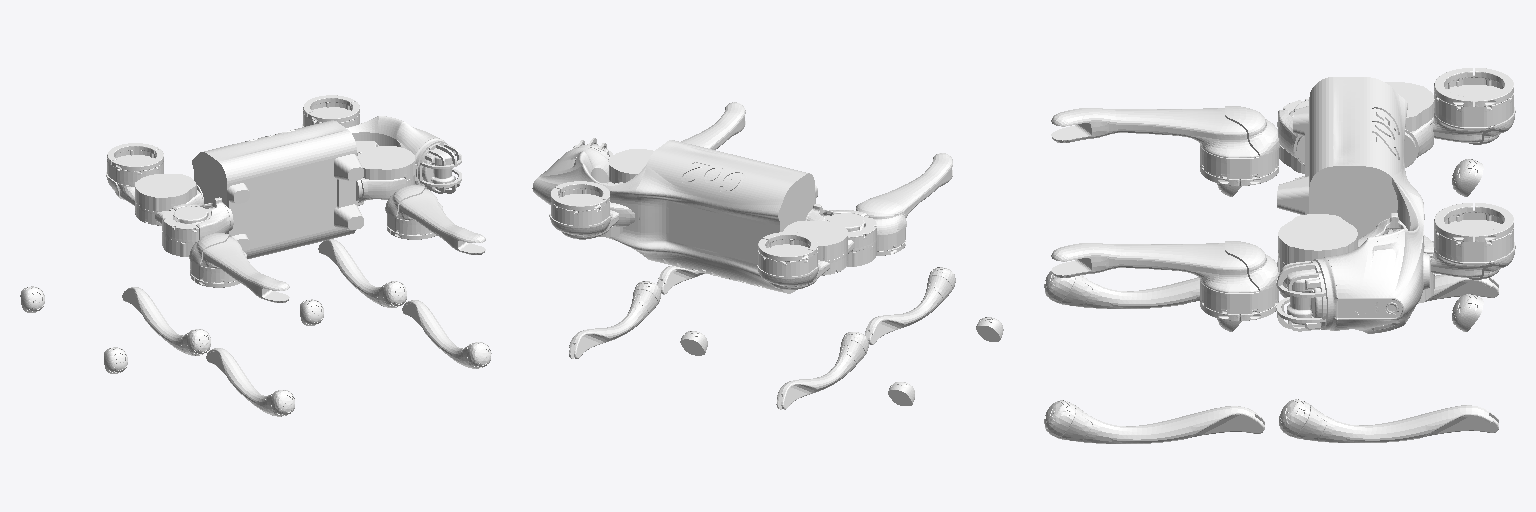
--- Render facts (derived) ---
The picture shows the robot from 3 angles, left to right: view 1: azimuth 30°, elevation 25°; view 2: azimuth 150°, elevation 25°; view 3: azimuth 270°, elevation 25°; orthographic projection.
Model go2 with 30 links and 29 joints (12 revolute, 16 fixed, 1 floating), rooted at world, posed joints at zero except 4 at the middle of their limits (FL_calf_joint = -1.78, FR_calf_joint = -1.78, RL_calf_joint = -1.78, RR_calf_joint = -1.78).
Visible links, largest first — view 1: base, RR_thigh, FR_thigh, RR_hip, FR_hip, RL_thigh, RL_hip, FR_calf, RL_calf, RR_calf, FL_calf, FL_thigh (+3 smaller); view 2: base, RR_thigh, RL_thigh, FL_thigh, RL_calf, FL_calf, RR_calf, RR_hip, RL_hip, FR_thigh, FR_hip, FR_calf (+4 smaller); view 3: base, RR_thigh, FR_thigh, FL_thigh, RL_thigh, FR_calf, FL_calf, RR_calf, FR_hip, RL_hip, RR_hip, RL_calf (+3 smaller).
Boxes of the visible links, left/top/right/bottom form: base: left=192, top=116, right=461, bottom=258; RR_thigh: left=189, top=233, right=289, bottom=302; FR_thigh: left=385, top=185, right=485, bottom=254; RR_hip: left=162, top=197, right=233, bottom=256; FR_hip: left=356, top=146, right=414, bottom=205; RL_thigh: left=106, top=143, right=203, bottom=224; RL_hip: left=135, top=174, right=203, bottom=225; FR_calf: left=402, top=300, right=491, bottom=368; RL_calf: left=122, top=287, right=210, bottom=355; RR_calf: left=206, top=348, right=294, bottom=416; FL_calf: left=318, top=239, right=406, bottom=307; FL_thigh: left=302, top=95, right=359, bottom=153; base: left=532, top=138, right=817, bottom=293; RR_thigh: left=856, top=153, right=952, bottom=255; RL_thigh: left=757, top=224, right=864, bottom=289; FL_thigh: left=549, top=181, right=618, bottom=239; RL_calf: left=776, top=332, right=868, bottom=409; FL_calf: left=569, top=281, right=660, bottom=358; RR_calf: left=865, top=267, right=955, bottom=344; RR_hip: left=805, top=204, right=876, bottom=266; RL_hip: left=783, top=221, right=847, bottom=275; FR_thigh: left=681, top=102, right=745, bottom=149; FR_hip: left=609, top=149, right=653, bottom=183; FR_calf: left=657, top=266, right=704, bottom=294; base: left=1276, top=77, right=1429, bottom=333; RR_thigh: left=1051, top=106, right=1279, bottom=185; FR_thigh: left=1051, top=241, right=1278, bottom=320; FL_thigh: left=1431, top=203, right=1515, bottom=279; RL_thigh: left=1289, top=68, right=1515, bottom=144; FR_calf: left=1044, top=400, right=1264, bottom=443; FL_calf: left=1279, top=399, right=1498, bottom=442; RR_calf: left=1044, top=271, right=1199, bottom=308; FR_hip: left=1277, top=214, right=1357, bottom=283; RL_hip: left=1385, top=82, right=1434, bottom=167; RR_hip: left=1277, top=99, right=1308, bottom=173; RL_calf: left=1279, top=275, right=1498, bottom=301.
Size in the robot's own frame: 0.7531 by 0.5701 by 0.3416 metres.
Meshes: 7 distinct files referenced, 17 mesh visuals loaded (7 binary STL).

The robot description file, URDF, robot "go2":
<?xml version="1.0" encoding="utf-8"?>
<!-- This URDF was automatically created by SolidWorks to URDF Exporter! Originally created by
Stephen Brawner ([email redacted]) 
     Commit Version: 1.6.0-4-g7f85cfe  Build Version: 1.6.7995.38578
     For more information, please see http://wiki.ros.org/sw_urdf_exporter -->
<robot
  name="go2">
    <mujoco>
        <compiler 
        meshdir="../meshes/" 
        balanceinertia="true" 
        discardvisual="false" />
  </mujoco>
  <link name="world" />
  <joint name="floating_base_joint" type="floating">
   <origin xyz="0 0 0" rpy="0 0 0" />
   <parent link="world" />
   <child link="base" />
  </joint>
  <link
    name="base">
    <inertial>
      <origin
        xyz="0.021112 0 -0.005366"
        rpy="0 0 0" />
      <mass
        value="6.921" />
      <inertia
        ixx="0.02448"
        ixy="0.00012166"
        ixz="0.0014849"
        iyy="0.098077"
        iyz="-3.12E-05"
        izz="0.107" />
    </inertial>
    <visual>
      <origin
        xyz="0 0 0"
        rpy="0 0 0" />
      <geometry>
        <mesh
          filename="package://go2/meshes/base.stl" />
      </geometry>
      <material
        name="">
        <color
          rgba="1 1 1 1" />
      </material>
    </visual>
    <collision>
      <origin rpy="0 0 0" xyz="0 0 0" />
      <geometry>
        <box size="0.3762 0.0935 0.114" />
      </geometry>
    </collision>
  </link>
  <link
    name="Head_upper">
    <inertial>
      <origin
        xyz="0 0 0"
        rpy="0 0 0" />
      <mass
        value="0.001" />
      <inertia
        ixx="9.6e-06"
        ixy="0"
        ixz="0"
        iyy="9.6e-06"
        iyz="0"
        izz="9.6e-06" />
    </inertial>
    <collision>
      <origin
        xyz="0 0 0"
        rpy="0 0 0" />
      <geometry>
        <cylinder radius="0.05" length="0.09" />
      </geometry>
    </collision>
  </link>
  <joint
    name="Head_upper_joint"
    type="fixed" dont_collapse="true">
    <origin
      xyz="0.285 0 0.01"
      rpy="0 0 0" />
    <parent
      link="base" />
    <child
      link="Head_upper" />
    <axis
      xyz="0 0 0" />
  </joint>
  <link
    name="Head_lower">
    <inertial>
      <origin
        xyz="0 0 0"
        rpy="0 0 0" />
      <mass
        value="0.001" />
      <inertia
        ixx="9.6e-06"
        ixy="0"
        ixz="0"
        iyy="9.6e-06"
        iyz="0"
        izz="9.6e-06" />
    </inertial>
    <collision>
      <origin
        xyz="0 0 0"
        rpy="0 0 0" />
      <geometry>
        <sphere radius="0.047" />
      </geometry>
    </collision>
  </link>
  <joint
    name="Head_lower_joint"
    type="fixed" dont_collapse="true">
    <origin
      xyz="0.008 0 -0.07"
      rpy="0 0 0" />
    <parent
      link="Head_upper" />
    <child
      link="Head_lower" />
    <axis
      xyz="0 0 0" />
  </joint>
  <link
    name="FL_hip">
    <inertial>
      <origin
        xyz="-0.0054 0.00194 -0.000105"
        rpy="0 0 0" />
      <mass
        value="0.678" />
      <inertia
        ixx="0.00048"
        ixy="-3.01E-06"
        ixz="1.11E-06"
        iyy="0.000884"
        iyz="-1.42E-06"
        izz="0.000596" />
    </inertial>
    <visual>
      <origin
        xyz="0 0 0"
        rpy="0 0 0" />
      <geometry>
        <mesh
          filename="package://go2/meshes/hip.stl" />
      </geometry>
      <material
        name="">
        <color
          rgba="1 1 1 1" />
      </material>
    </visual>
    <collision>
      <origin rpy="1.5707963267948966 0 0" xyz="0 0.08 0" />
      <geometry>
        <cylinder length="0.04" radius="0.046" />
      </geometry>
    </collision>
  </link>
  <joint
    name="FL_hip_joint"
    type="revolute">
    <origin
      xyz="0.1934 0.0465 0"
      rpy="0 0 0" />
    <parent
      link="base" />
    <child
      link="FL_hip" />
    <axis
      xyz="1 0 0" />
    <limit
      lower="-1.0472"
      upper="1.0472"
      effort="23.7"
      velocity="30.1" />
  </joint>
  <link
    name="FL_thigh">
    <inertial>
      <origin
        xyz="-0.00374 -0.0223 -0.0327"
        rpy="0 0 0" />
      <mass
        value="1.152" />
      <inertia
        ixx="0.00584"
        ixy="8.72E-05"
        ixz="-0.000289"
        iyy="0.0058"
        iyz="0.000808"
        izz="0.00103" />
    </inertial>
    <visual>
      <origin
        xyz="0 0 0"
        rpy="0 0 0" />
      <geometry>
        <mesh
          filename="package://go2/meshes/thigh.stl" />
      </geometry>
      <material
        name="">
        <color
          rgba="1 1 1 1" />
      </material>
    </visual>
    <collision>
      <origin rpy="0 1.5707963267948966 0" xyz="0 0 -0.1065" />
      <geometry>
        <box size="0.213 0.0245 0.034" />
      </geometry>
    </collision>
  </link>
  <joint
    name="FL_thigh_joint"
    type="revolute">
    <origin
      xyz="0 0.0955 0"
      rpy="0 0 0" />
    <parent
      link="FL_hip" />
    <child
      link="FL_thigh" />
    <axis
      xyz="0 -1 0" />
    <limit
      lower="-1.5708"
      upper="3.4907"
      effort="23.7"
      velocity="30.1" />
  </joint>
  <link
    name="FL_calf">
    <inertial>
      <origin
        xyz="0.00548 -0.000975 -0.115"
        rpy="0 0 0" />
      <mass
        value="0.154" />
      <inertia
        ixx="0.00108"
        ixy="3.4E-07"
        ixz="1.72E-05"
        iyy="0.0011"
        iyz="8.28E-06"
        izz="3.29E-05" />
    </inertial>
    <visual>
      <origin
        xyz="0 0 0"
        rpy="0 0 0" />
      <geometry>
        <mesh
          filename="package://go2/meshes/calf.stl" />
      </geometry>
      <material
        name="">
        <color
          rgba="1 1 1 1" />
      </material>
    </visual>
    <collision>
      <origin rpy="0 -0.21 0" xyz="0.008 0 -0.06" />
      <geometry>
        <cylinder length="0.12" radius="0.012" />
      </geometry>
    </collision>
  </link>
  <joint
    name="FL_calf_joint"
    type="revolute">
    <origin
      xyz="0 0 -0.213"
      rpy="0 0 0" />
    <parent
      link="FL_thigh" />
    <child
      link="FL_calf" />
    <axis
      xyz="0 -1 0" />
    <limit
      lower="-2.7227"
      upper="-0.83776"
      effort="45.43"
      velocity="15.70" />
  </joint>
  <link
    name="FL_calflower">
    <collision>
      <origin rpy="0 0 0" xyz="0 0 0" />
      <geometry>
        <cylinder length="0.065" radius="0.011" />
      </geometry>
    </collision>
  </link>
  <joint
    name="FL_calflower_joint"
    type="fixed">
    <origin
      xyz="0.020 0 -0.148"
      rpy="0 0.05 0" />
    <parent
      link="FL_calf" />
    <child
      link="FL_calflower" />
    <axis
      xyz="0 0 0" />
  </joint>
  <link
    name="FL_calflower1">
    <collision>
      <origin rpy="0 0 0" xyz="0 0 0" />
      <geometry>
        <cylinder length="0.03" radius="0.0155" />
      </geometry>
    </collision>
  </link>
  <joint
    name="FL_calflower1_joint"
    type="fixed">
    <origin
      xyz="-0.01 0 -0.04"
      rpy="0 0.48 0" />
    <parent
      link="FL_calflower" />
    <child
      link="FL_calflower1" />
    <axis
      xyz="0 0 0" />
  </joint>
  <link
    name="FL_foot">
    <inertial>
      <origin
        xyz="0 0 0"
        rpy="0 0 0" />
      <mass
        value="0.04" />
      <inertia
        ixx="9.6e-06"
        ixy="0"
        ixz="0"
        iyy="9.6e-06"
        iyz="0"
        izz="9.6e-06" />
    </inertial>
    <visual>
      <origin
        xyz="0 0 0"
        rpy="0 0 0" />
      <geometry>
        <mesh
          filename="package://go2/meshes/foot.stl" />
      </geometry>
      <material
        name="">
        <color
          rgba="1 1 1 1" />
      </material>
    </visual>
    <collision>
      <origin rpy="0 0 0" xyz="-0.002 0 0" />
      <geometry>
        <sphere radius="0.022" />
      </geometry>
    </collision>
  </link>
  <joint
    name="FL_foot_joint"
    type="fixed" dont_collapse="true">
    <origin
      xyz="0 0 -0.213"
      rpy="0 0 0" />
    <parent
      link="FL_calf" />
    <child
      link="FL_foot" />
    <axis
      xyz="0 0 0" />
  </joint>
  <link
    name="FR_hip">
    <inertial>
      <origin
        xyz="-0.0054 -0.00194 -0.000105"
        rpy="0 0 0" />
      <mass
        value="0.678" />
      <inertia
        ixx="0.00048"
        ixy="3.01E-06"
        ixz="1.11E-06"
        iyy="0.000884"
        iyz="1.42E-06"
        izz="0.000596" />
    </inertial>
    <visual>
      <origin
        xyz="0 0 0"
        rpy="3.1415 0 0" />
      <geometry>
        <mesh
          filename="package://go2/meshes/hip.stl" />
      </geometry>
      <material
        name="">
        <color
          rgba="1 1 1 1" />
      </material>
    </visual>
    <collision>
      <origin rpy="1.5707963267948966 0 0" xyz="0 -0.08 0" />
      <geometry>
        <cylinder length="0.04" radius="0.046" />
      </geometry>
    </collision>
  </link>
  <joint
    name="FR_hip_joint"
    type="revolute">
    <origin
      xyz="0.1934 -0.0465 0"
      rpy="0 0 0" />
    <parent
      link="base" />
    <child
      link="FR_hip" />
    <axis
      xyz="1 0 0" />
    <limit
      lower="-1.0472"
      upper="1.0472"
      effort="23.7"
      velocity="30.1" />
  </joint>
  <link
    name="FR_thigh">
    <inertial>
      <origin
        xyz="-0.00374 0.0223 -0.0327"
        rpy="0 0 0" />
      <mass
        value="1.152" />
      <inertia
        ixx="0.00584"
        ixy="-8.72E-05"
        ixz="-0.000289"
        iyy="0.0058"
        iyz="-0.000808"
        izz="0.00103" />
    </inertial>
    <visual>
      <origin
        xyz="0 0 0"
        rpy="0 0 0" />
      <geometry>
        <mesh
          filename="package://go2/meshes/thigh_mirror.stl" />
      </geometry>
      <material
        name="">
        <color
          rgba="1 1 1 1" />
      </material>
    </visual>
    <collision>
      <origin rpy="0 1.5707963267948966 0" xyz="0 0 -0.1065" />
      <geometry>
        <box size="0.213 0.0245 0.034" />
      </geometry>
    </collision>
  </link>
  <joint
    name="FR_thigh_joint"
    type="revolute">
    <origin
      xyz="0 -0.0955 0"
      rpy="0 0 0" />
    <parent
      link="FR_hip" />
    <child
      link="FR_thigh" />
    <axis
      xyz="0 -1 0" />
    <limit
      lower="-1.5708"
      upper="3.4907"
      effort="23.7"
      velocity="30.1" />
  </joint>
  <link
    name="FR_calf">
    <inertial>
      <origin
        xyz="0.00548 0.000975 -0.115"
        rpy="0 0 0" />
      <mass
        value="0.154" />
      <inertia
        ixx="0.00108"
        ixy="-3.4E-07"
        ixz="1.72E-05"
        iyy="0.0011"
        iyz="-8.28E-06"
        izz="3.29E-05" />
    </inertial>
    <visual>
      <origin
        xyz="0 0 0"
        rpy="0 0 0" />
      <geometry>
        <mesh
          filename="package://go2/meshes/calf_mirror.stl" />
      </geometry>
      <material
        name="">
        <color
          rgba="1 1 1 1" />
      </material>
    </visual>
    <collision>
      <origin rpy="0 -0.2 0" xyz="0.01 0 -0.06" />
      <geometry>
        <cylinder length="0.12" radius="0.013" />
      </geometry>
    </collision>
  </link>
  <joint
    name="FR_calf_joint"
    type="revolute">
    <origin
      xyz="0 0 -0.213"
      rpy="0 0 0" />
    <parent
      link="FR_thigh" />
    <child
      link="FR_calf" />
    <axis
      xyz="0 -1 0" />
    <limit
      lower="-2.7227"
      upper="-0.83776"
      effort="45.43"
      velocity="15.70" />
  </joint>
  <link
    name="FR_calflower">
    <collision>
      <origin rpy="0 0 0" xyz="0 0 0" />
      <geometry>
        <cylinder length="0.065" radius="0.011" />
      </geometry>
    </collision>
  </link>
  <joint
    name="FR_calflower_joint"
    type="fixed">
    <origin
      xyz="0.020 0 -0.148"
      rpy="0 0.05 0" />
    <parent
      link="FR_calf" />
    <child
      link="FR_calflower" />
    <axis
      xyz="0 0 0" />
  </joint>
  <link
    name="FR_calflower1">
    <collision>
      <origin rpy="0 0 0" xyz="0 0 0" />
      <geometry>
        <cylinder length="0.03" radius="0.0155" />
      </geometry>
    </collision>
  </link>
  <joint
    name="FR_calflower1_joint"
    type="fixed">
    <origin
      xyz="-0.01 0 -0.04"
      rpy="0 0.48 0" />
    <parent
      link="FR_calflower" />
    <child
      link="FR_calflower1" />
    <axis
      xyz="0 0 0" />
  </joint>
  <link
    name="FR_foot">
    <inertial>
      <origin
        xyz="0 0 0"
        rpy="0 0 0" />
      <mass
        value="0.04" />
      <inertia
        ixx="9.6e-06"
        ixy="0"
        ixz="0"
        iyy="9.6e-06"
        iyz="0"
        izz="9.6e-06" />
    </inertial>
    <visual>
      <origin
        xyz="0 0 0"
        rpy="0 0 0" />
      <geometry>
        <mesh
          filename="package://go2/meshes/foot.stl" />
      </geometry>
      <material
        name="">
        <color
          rgba="1 1 1 1" />
      </material>
    </visual>
    <collision>
      <origin rpy="0 0 0" xyz="-0.002 0 0" />
      <geometry>
        <sphere radius="0.022" />
      </geometry>
    </collision>
  </link>
  <joint
    name="FR_foot_joint"
    type="fixed" dont_collapse="true">
    <origin
      xyz="0 0 -0.213"
      rpy="0 0 0" />
    <parent
      link="FR_calf" />
    <child
      link="FR_foot" />
    <axis
      xyz="0 0 0" />
  </joint>
  <link
    name="RL_hip">
    <inertial>
      <origin
        xyz="0.0054 0.00194 -0.000105"
        rpy="0 0 0" />
      <mass
        value="0.678" />
      <inertia
        ixx="0.00048"
        ixy="3.01E-06"
        ixz="-1.11E-06"
        iyy="0.000884"
        iyz="-1.42E-06"
        izz="0.000596" />
    </inertial>
    <visual>
      <origin
        xyz="0 0 0"
        rpy="0 3.1415 0" />
      <geometry>
        <mesh
          filename="package://go2/meshes/hip.stl" />
      </geometry>
      <material
        name="">
        <color
          rgba="1 1 1 1" />
      </material>
    </visual>
    <collision>
      <origin rpy="1.5707963267948966 0 0" xyz="0 0.08 0" />
      <geometry>
        <cylinder length="0.04" radius="0.046" />
      </geometry>
    </collision>
  </link>
  <joint
    name="RL_hip_joint"
    type="revolute">
    <origin
      xyz="-0.1934 0.0465 0"
      rpy="0 0 0" />
    <parent
      link="base" />
    <child
      link="RL_hip" />
    <axis
      xyz="1 0 0" />
    <limit
      lower="-1.0472"
      upper="1.0472"
      effort="23.7"
      velocity="30.1" />
  </joint>
  <link
    name="RL_thigh">
    <inertial>
      <origin
        xyz="-0.00374 -0.0223 -0.0327"
        rpy="0 0 0" />
      <mass
        value="1.152" />
      <inertia
        ixx="0.00584"
        ixy="8.72E-05"
        ixz="-0.000289"
        iyy="0.0058"
        iyz="0.000808"
        izz="0.00103" />
    </inertial>
    <visual>
      <origin
        xyz="0 0 0"
        rpy="0 0 0" />
      <geometry>
        <mesh
          filename="package://go2/meshes/thigh.stl" />
      </geometry>
      <material
        name="">
        <color
          rgba="1 1 1 1" />
      </material>
    </visual>
    <collision>
      <origin rpy="0 1.5707963267948966 0" xyz="0 0 -0.1065" />
      <geometry>
        <box size="0.213 0.0245 0.034" />
      </geometry>
    </collision>
  </link>
  <joint
    name="RL_thigh_joint"
    type="revolute">
    <origin
      xyz="0 0.0955 0"
      rpy="0 0 0" />
    <parent
      link="RL_hip" />
    <child
      link="RL_thigh" />
    <axis
      xyz="0 -1 0" />
    <limit
      lower="-0.5236"
      upper="4.5379"
      effort="23.7"
      velocity="30.1" />
  </joint>
  <link
    name="RL_calf">
    <inertial>
      <origin
        xyz="0.00548 -0.000975 -0.115"
        rpy="0 0 0" />
      <mass
        value="0.154" />
      <inertia
        ixx="0.00108"
        ixy="3.4E-07"
        ixz="1.72E-05"
        iyy="0.0011"
        iyz="8.28E-06"
        izz="3.29E-05" />
    </inertial>
    <visual>
      <origin
        xyz="0 0 0"
        rpy="0 0 0" />
      <geometry>
        <mesh
          filename="package://go2/meshes/calf.stl" />
      </geometry>
      <material
        name="">
        <color
          rgba="1 1 1 1" />
      </material>
    </visual>
    <collision>
      <origin rpy="0 -0.2 0" xyz="0.01 0 -0.06" />
      <geometry>
        <cylinder length="0.12" radius="0.013" />
      </geometry>
    </collision>
  </link>
  <joint
    name="RL_calf_joint"
    type="revolute">
    <origin
      xyz="0 0 -0.213"
      rpy="0 0 0" />
    <parent
      link="RL_thigh" />
    <child
      link="RL_calf" />
    <axis
      xyz="0 -1 0" />
    <limit
      lower="-2.7227"
      upper="-0.83776"
      effort="45.43"
      velocity="15.70" />
  </joint>
  <link
    name="RL_calflower">
    <collision>
      <origin rpy="0 0 0" xyz="0 0 0" />
      <geometry>
        <cylinder length="0.065" radius="0.011" />
      </geometry>
    </collision>
  </link>
  <joint
    name="RL_calflower_joint"
    type="fixed">
    <origin
      xyz="0.020 0 -0.148"
      rpy="0 0.05 0" />
    <parent
      link="RL_calf" />
    <child
      link="RL_calflower" />
    <axis
      xyz="0 0 0" />
  </joint>
  <link
    name="RL_calflower1">
    <collision>
      <origin rpy="0 0 0" xyz="0 0 0" />
      <geometry>
        <cylinder length="0.03" radius="0.0155" />
      </geometry>
    </collision>
  </link>
  <joint
    name="RL_calflower1_joint"
    type="fixed">
    <origin
      xyz="-0.01 0 -0.04"
      rpy="0 0.48 0" />
    <parent
      link="RL_calflower" />
    <child
      link="RL_calflower1" />
    <axis
      xyz="0 0 0" />
  </joint>
  <link
    name="RL_foot">
    <inertial>
      <origin
        xyz="0 0 0"
        rpy="0 0 0" />
      <mass
        value="0.04" />
      <inertia
        ixx="9.6e-06"
        ixy="0"
        ixz="0"
        iyy="9.6e-06"
        iyz="0"
        izz="9.6e-06" />
    </inertial>
    <visual>
      <origin
        xyz="0 0 0"
        rpy="0 0 0" />
      <geometry>
        <mesh
          filename="package://go2/meshes/foot.stl" />
      </geometry>
      <material
        name="">
        <color
          rgba="1 1 1 1" />
      </material>
    </visual>
    <collision>
      <origin rpy="0 0 0" xyz="-0.002 0 0" />
      <geometry>
        <sphere radius="0.022" />
      </geometry>
    </collision>
  </link>
  <joint
    name="RL_foot_joint"
    type="fixed" dont_collapse="true">
    <origin
      xyz="0 0 -0.213"
      rpy="0 0 0" />
    <parent
      link="RL_calf" />
    <child
      link="RL_foot" />
    <axis
      xyz="0 0 0" />
  </joint>
  <link
    name="RR_hip">
    <inertial>
      <origin
        xyz="0.0054 -0.00194 -0.000105"
        rpy="0 0 0" />
      <mass
        value="0.678" />
      <inertia
        ixx="0.00048"
        ixy="-3.01E-06"
        ixz="-1.11E-06"
        iyy="0.000884"
        iyz="1.42E-06"
        izz="0.000596" />
    </inertial>
    <visual>
      <origin
        xyz="0 0 0"
        rpy="3.1415 3.1415 0" />
      <geometry>
        <mesh
          filename="package://go2/meshes/hip.stl" />
      </geometry>
      <material
        name="">
        <color
          rgba="1 1 1 1" />
      </material>
    </visual>
    <collision>
      <origin rpy="1.5707963267948966 0 0" xyz="0 -0.08 0" />
      <geometry>
        <cylinder length="0.04" radius="0.046" />
      </geometry>
    </collision>
  </link>
  <joint
    name="RR_hip_joint"
    type="revolute">
    <origin
      xyz="-0.1934 -0.0465 0"
      rpy="0 0 0" />
    <parent
      link="base" />
    <child
      link="RR_hip" />
    <axis
      xyz="1 0 0" />
    <limit
      lower="-1.0472"
      upper="1.0472"
      effort="23.7"
      velocity="30.1" />
  </joint>
  <link
    name="RR_thigh">
    <inertial>
      <origin
        xyz="-0.00374 0.0223 -0.0327"
        rpy="0 0 0" />
      <mass
        value="1.152" />
      <inertia
        ixx="0.00584"
        ixy="-8.72E-05"
        ixz="-0.000289"
        iyy="0.0058"
        iyz="-0.000808"
        izz="0.00103" />
    </inertial>
    <visual>
      <origin
        xyz="0 0 0"
        rpy="0 0 0" />
      <geometry>
        <mesh
          filename="package://go2/meshes/thigh_mirror.stl" />
      </geometry>
      <material
        name="">
        <color
          rgba="1 1 1 1" />
      </material>
    </visual>
    <collision>
      <origin rpy="0 1.5707963267948966 0" xyz="0 0 -0.1065" />
      <geometry>
        <box size="0.213 0.0245 0.034" />
      </geometry>
    </collision>
  </link>
  <joint
    name="RR_thigh_joint"
    type="revolute">
    <origin
      xyz="0 -0.0955 0"
      rpy="0 0 0" />
    <parent
      link="RR_hip" />
    <child
      link="RR_thigh" />
    <axis
      xyz="0 -1 0" />
    <limit
      lower="-0.5236"
      upper="4.5379"
      effort="23.7"
      velocity="30.1" />
  </joint>
  <link
    name="RR_calf">
    <inertial>
      <origin
        xyz="0.00548 0.000975 -0.115"
        rpy="0 0 0" />
      <mass
        value="0.154" />
      <inertia
        ixx="0.00108"
        ixy="-3.4E-07"
        ixz="1.72E-05"
        iyy="0.0011"
        iyz="-8.28E-06"
        izz="3.29E-05" />
    </inertial>
    <visual>
      <origin
        xyz="0 0 0"
        rpy="0 0 0" />
      <geometry>
        <mesh
          filename="package://go2/meshes/calf_mirror.stl" />
      </geometry>
      <material
        name="">
        <color
          rgba="1 1 1 1" />
      </material>
    </visual>
    <collision>
      <origin rpy="0 -0.2 0" xyz="0.01 0 -0.06" />
      <geometry>
        <cylinder length="0.12" radius="0.013" />
      </geometry>
    </collision>
  </link>
  <joint
    name="RR_calf_joint"
    type="revolute">
    <origin
      xyz="0 0 -0.213"
      rpy="0 0 0" />
    <parent
      link="RR_thigh" />
    <child
      link="RR_calf" />
    <axis
      xyz="0 -1 0" />
    <limit
      lower="-2.7227"
      upper="-0.83776"
      effort="45.43"
      velocity="15.70" />
  </joint>
  <link
    name="RR_calflower">
    <collision>
      <origin rpy="0 0 0" xyz="0 0 0" />
      <geometry>
        <cylinder length="0.065" radius="0.011" />
      </geometry>
    </collision>
  </link>
  <joint
    name="RR_calflower_joint"
    type="fixed">
    <origin
      xyz="0.020 0 -0.148"
      rpy="0 0.05 0" />
    <parent
      link="RR_calf" />
    <child
      link="RR_calflower" />
    <axis
      xyz="0 0 0" />
  </joint>
  <link
    name="RR_calflower1">
    <collision>
      <origin rpy="0 0 0" xyz="0 0 0" />
      <geometry>
        <cylinder length="0.03" radius="0.0155" />
      </geometry>
    </collision>
  </link>
  <joint
    name="RR_calflower1_joint"
    type="fixed">
    <origin
      xyz="-0.01 0 -0.04"
      rpy="0 0.48 0" />
    <parent
      link="RR_calflower" />
    <child
      link="RR_calflower1" />
    <axis
      xyz="0 0 0" />
  </joint>
  <link
    name="RR_foot">
    <inertial>
      <origin
        xyz="0 0 0"
        rpy="0 0 0" />
      <mass
        value="0.04" />
      <inertia
        ixx="9.6e-06"
        ixy="0"
        ixz="0"
        iyy="9.6e-06"
        iyz="0"
        izz="9.6e-06" />
    </inertial>
    <visual>
      <origin
        xyz="0 0 0"
        rpy="0 0 0" />
      <geometry>
        <mesh
          filename="package://go2/meshes/foot.stl" />
      </geometry>
      <material
        name="">
        <color
          rgba="1 1 1 1" />
      </material>
    </visual>
    <collision>
      <origin rpy="0 0 0" xyz="-0.002 0 0" />
      <geometry>
        <sphere radius="0.022" />
      </geometry>
    </collision>
  </link>
  <joint
    name="RR_foot_joint"
    type="fixed" dont_collapse="true">
    <origin
      xyz="0 0 -0.213"
      rpy="0 0 0" />
    <parent
      link="RR_calf" />
    <child
      link="RR_foot" />
    <axis
      xyz="0 0 0" />
  </joint>
  <link
    name="imu">
    <inertial>
      <origin
        xyz="0 0 0"
        rpy="0 0 0" />
      <mass
        value="0" />
      <inertia
        ixx="0"
        ixy="0"
        ixz="0"
        iyy="0"
        iyz="0"
        izz="0" />
    </inertial>
  </link>
  <joint
    name="imu_joint"
    type="fixed">
    <origin
      xyz="-0.02557 0 0.04232"
      rpy="0 0 0" />
    <parent
      link="base" />
    <child
      link="imu" />
    <axis
      xyz="0 0 0" />
  </joint>
  <link
    name="radar">
    <inertial>
      <origin
        xyz="0 0 0"
        rpy="0 0 0" />
      <mass
        value="0" />
      <inertia
        ixx="0"
        ixy="0"
        ixz="0"
        iyy="0"
        iyz="0"
        izz="0" />
    </inertial>
  </link>
  <joint
    name="radar_joint"
    type="fixed">
    <origin
      xyz="0.28945 0 -0.046825"
      rpy="0 2.8782 0" />
    <parent
      link="base" />
    <child
      link="radar" />
    <axis
      xyz="0 0 0" />
  </joint>
</robot>
